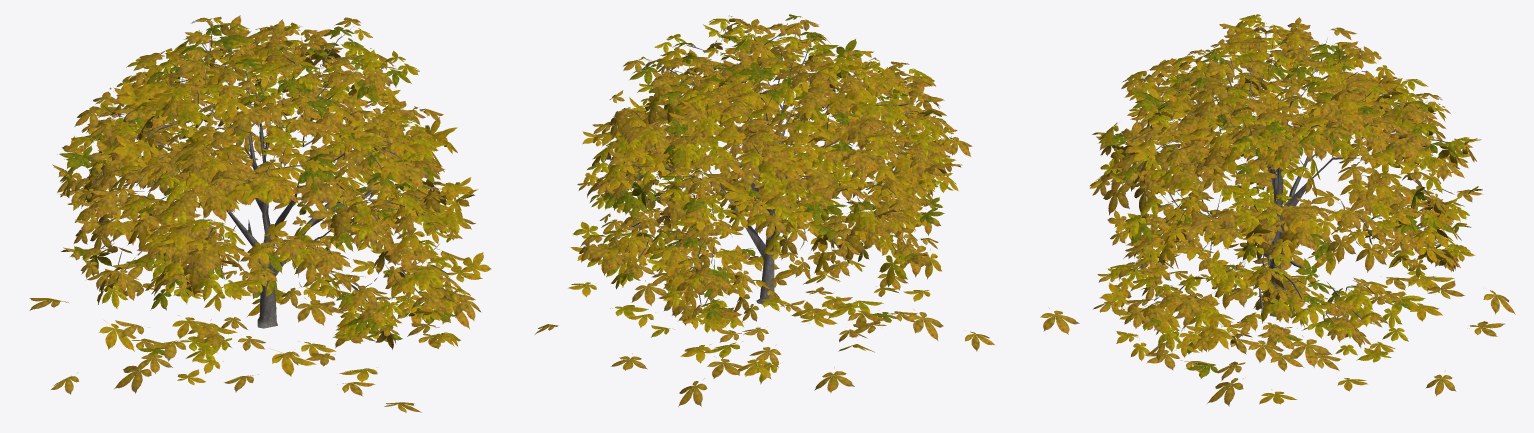
File: aesculus-pavia-ld-s31.glb
The picture shows the model from 3 angles, left to right: view 1: azimuth 30°, elevation 25°; view 2: azimuth 150°, elevation 25°; view 3: azimuth 270°, elevation 25°; orthographic projection. The views are drawn at different scales.
Parts seen in each view (by area): view 1: ForestPlantCatalog_aesculus-pavia-ld-s31; view 2: ForestPlantCatalog_aesculus-pavia-ld-s31; view 3: ForestPlantCatalog_aesculus-pavia-ld-s31.
Part boxes in pixels (left/top/right/bottom): ForestPlantCatalog_aesculus-pavia-ld-s31: left=29, top=15, right=491, bottom=412; ForestPlantCatalog_aesculus-pavia-ld-s31: left=535, top=14, right=994, bottom=406; ForestPlantCatalog_aesculus-pavia-ld-s31: left=1040, top=14, right=1515, bottom=406.
Size of the model in its own units: 14.16 by 9.46 by 14.21.
Materials: 11 (11 with a texture image).
